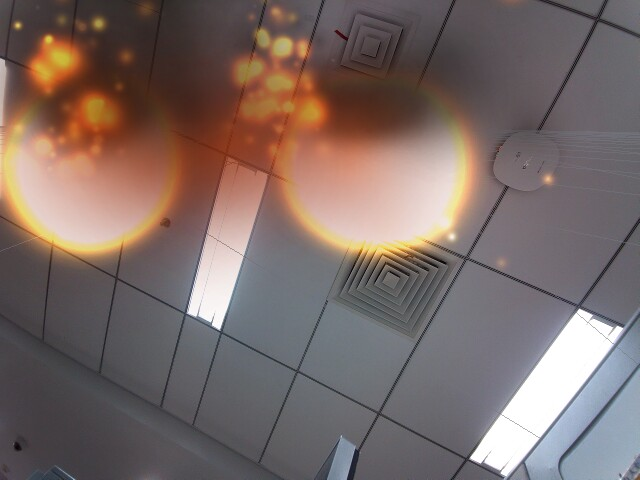fire: (26, 107, 144, 227)
firebig: (323, 106, 457, 231)
